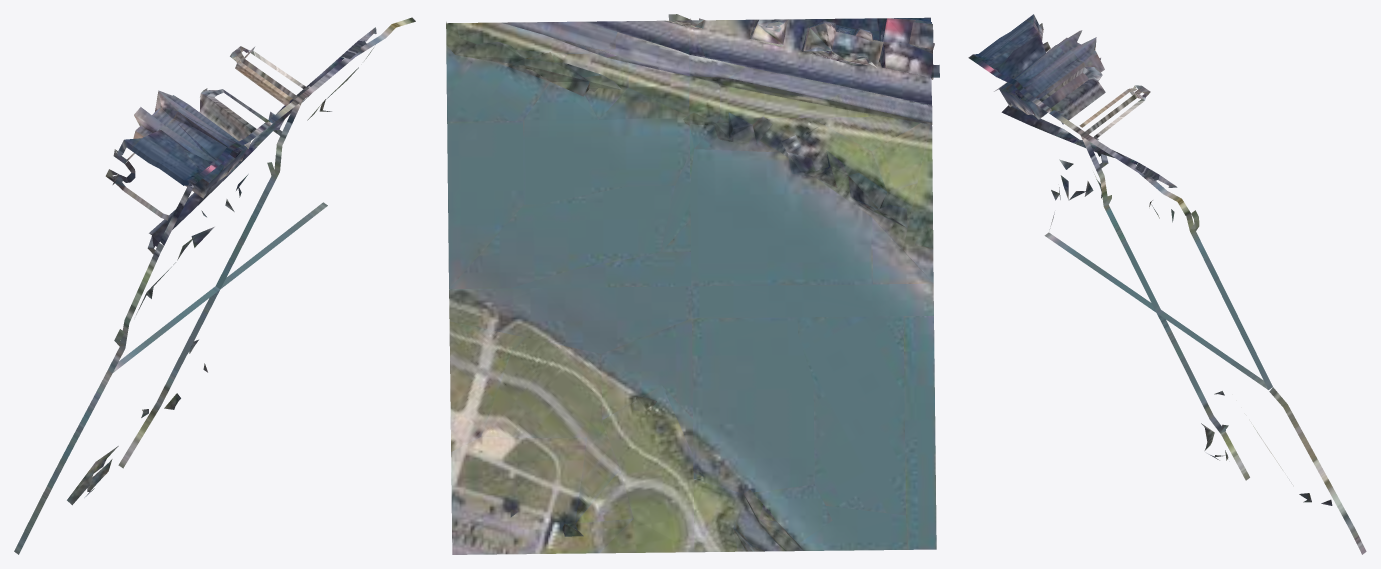
3 renders of one model, left to right at view 1: azimuth 30°, elevation 25°; view 2: azimuth 150°, elevation 25°; view 3: azimuth 270°, elevation 25°, orthographic. The views are drawn at different scales.
Size of the model in its own units: 305 by 304 by 258.
1 material, 1 textured.
